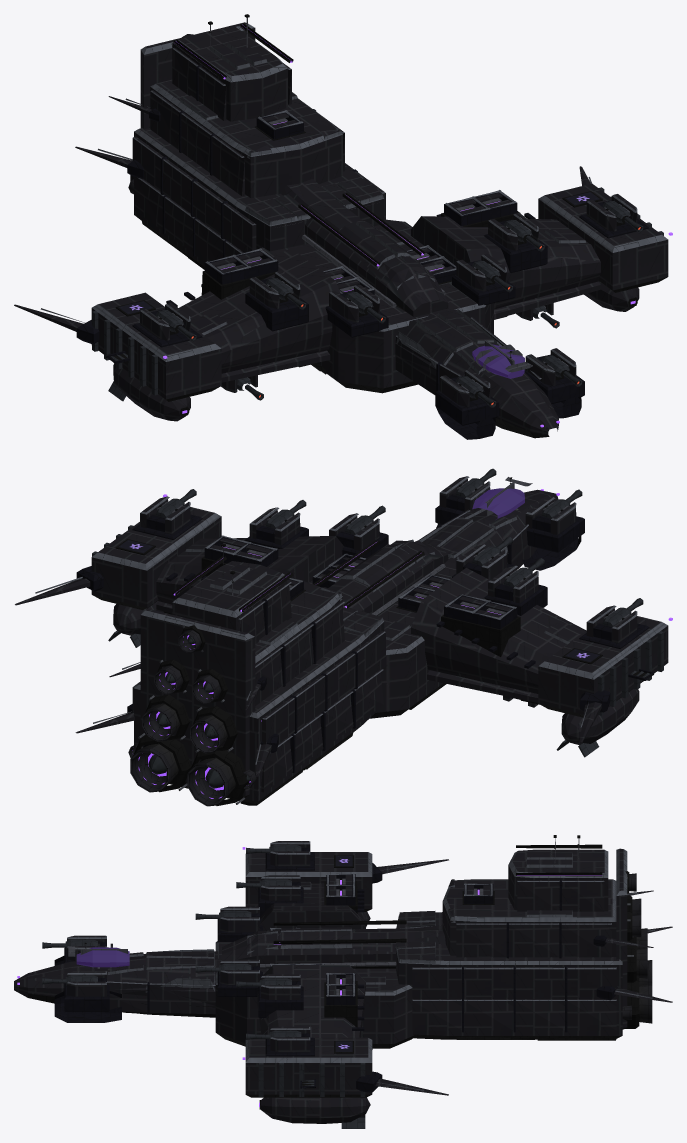
File: eris-schiff6.glb
The picture shows the model from 3 angles, top to bottom: view 1: azimuth 30°, elevation 25°; view 2: azimuth 150°, elevation 25°; view 3: azimuth 270°, elevation 25°; orthographic projection. The views are drawn at different scales.
Parts seen in each view (by area): view 1: Hull_LOD0; view 2: Hull_LOD0; view 3: Hull_LOD0.
Boxes of the visible parts, x1,y1,x2,y2 form: Hull_LOD0: (14,14,672,439); Hull_LOD0: (15,476,672,806); Hull_LOD0: (14,835,672,1128).
Bounding box in the file's own units: 71.46 × 28.11 × 84.25.
6 materials, 4 textured.
